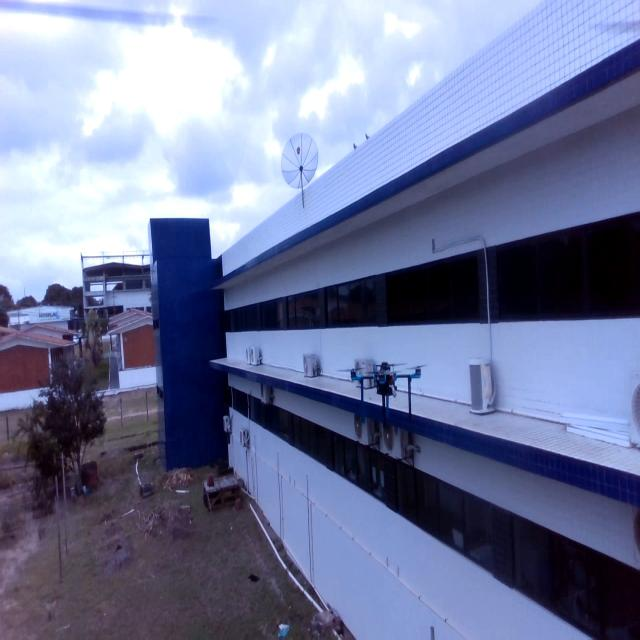-uav-: (341, 345, 429, 442)
